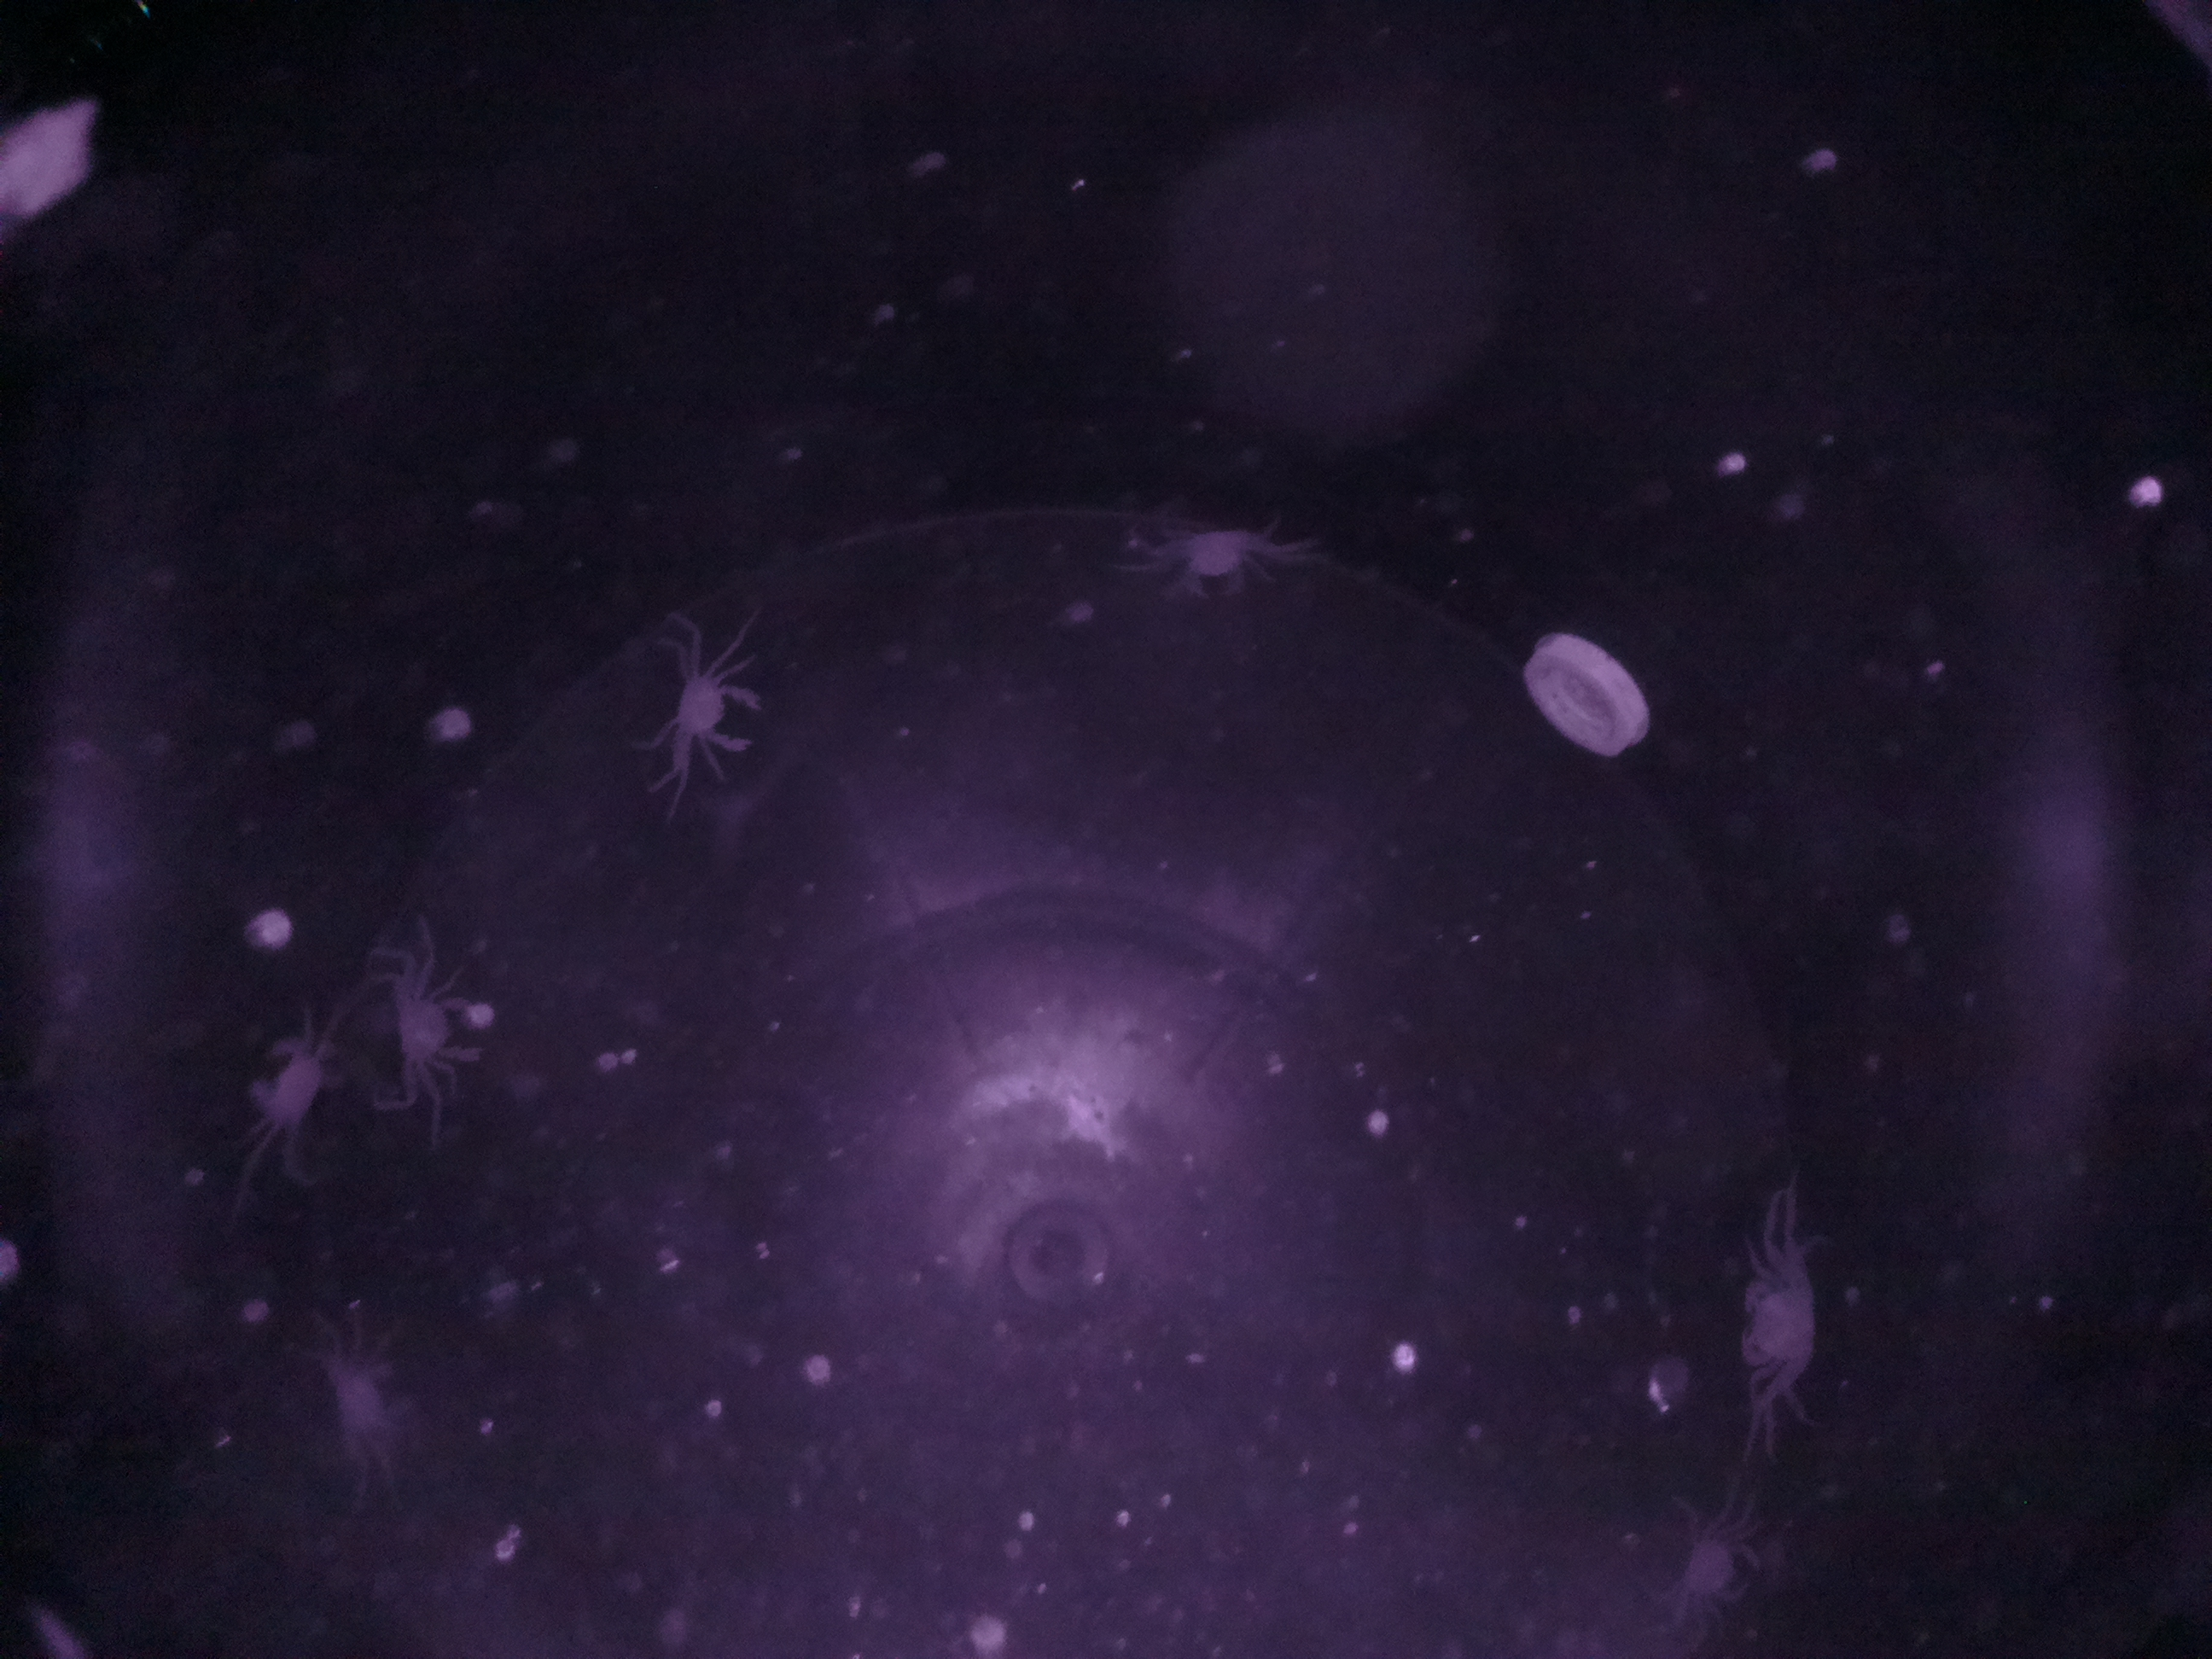Crab: (240, 1009, 352, 1150), (1723, 1256, 1832, 1384), (653, 664, 775, 762)
